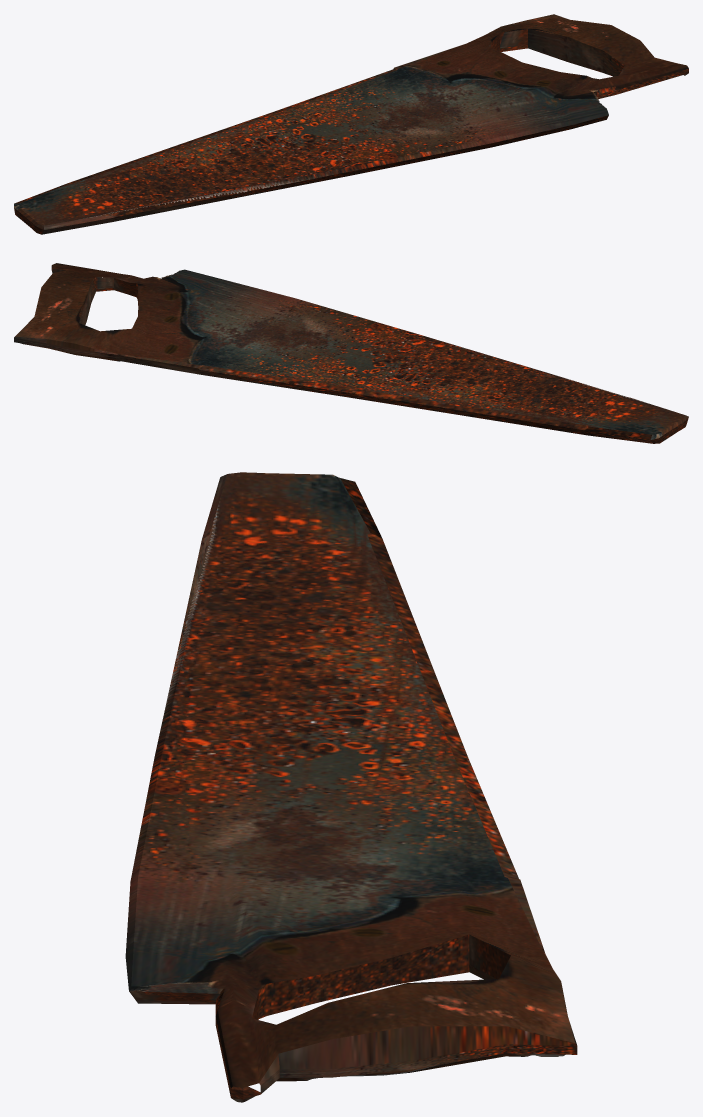
File: Nratcliff_BoneSaw.fbx
3 views of the same model, one above another, from view 1: azimuth 30°, elevation 25°; view 2: azimuth 150°, elevation 25°; view 3: azimuth 270°, elevation 25° (orthographic). The views are drawn at different scales.
Parts seen in each view (by area): view 1: pCube1; view 2: pCube1; view 3: pCube1.
Boxes of the visible parts, bbox=[...] form: pCube1: bbox=[14, 14, 688, 234]; pCube1: bbox=[14, 263, 688, 443]; pCube1: bbox=[125, 472, 577, 1102].
Bounding box in the file's own units: 593 × 21.68 × 183.
Materials: 1 (1 with a texture image).
